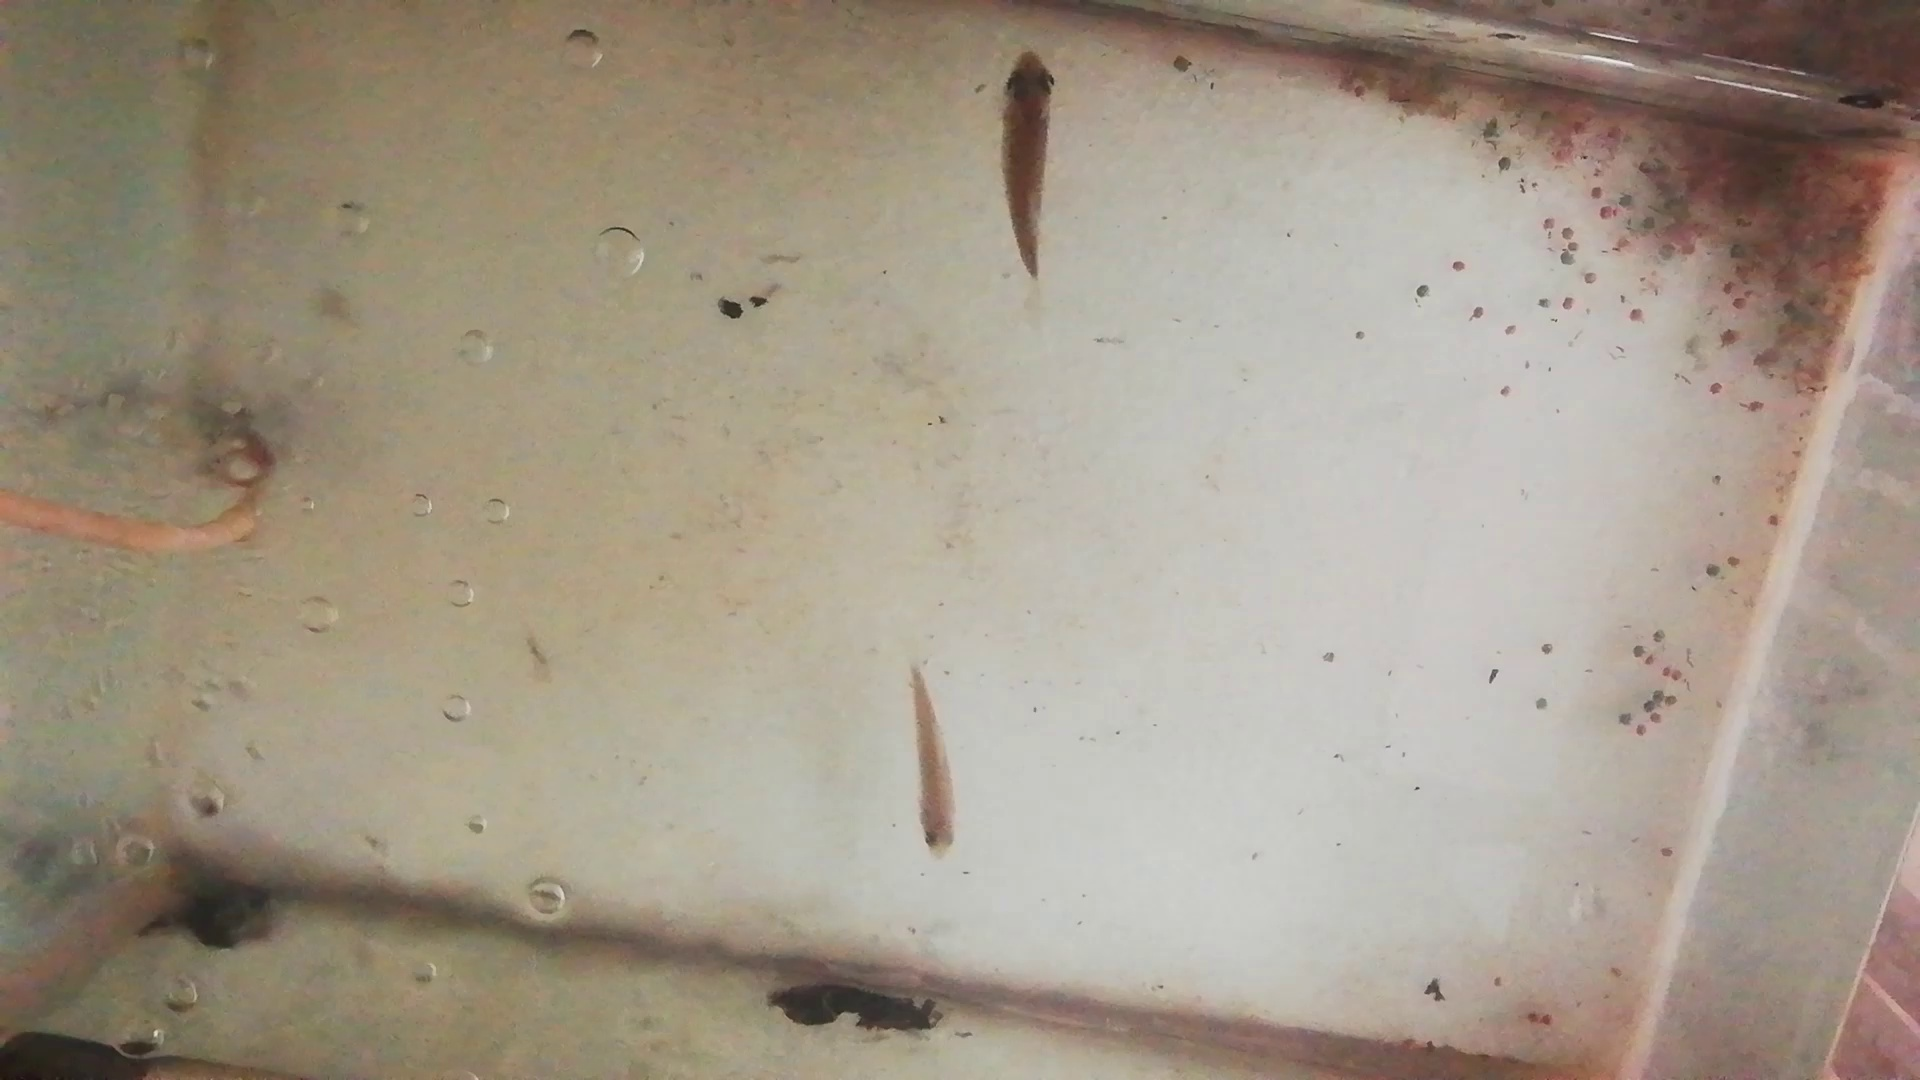fish: (996, 47, 1058, 276), (903, 670, 964, 858)
